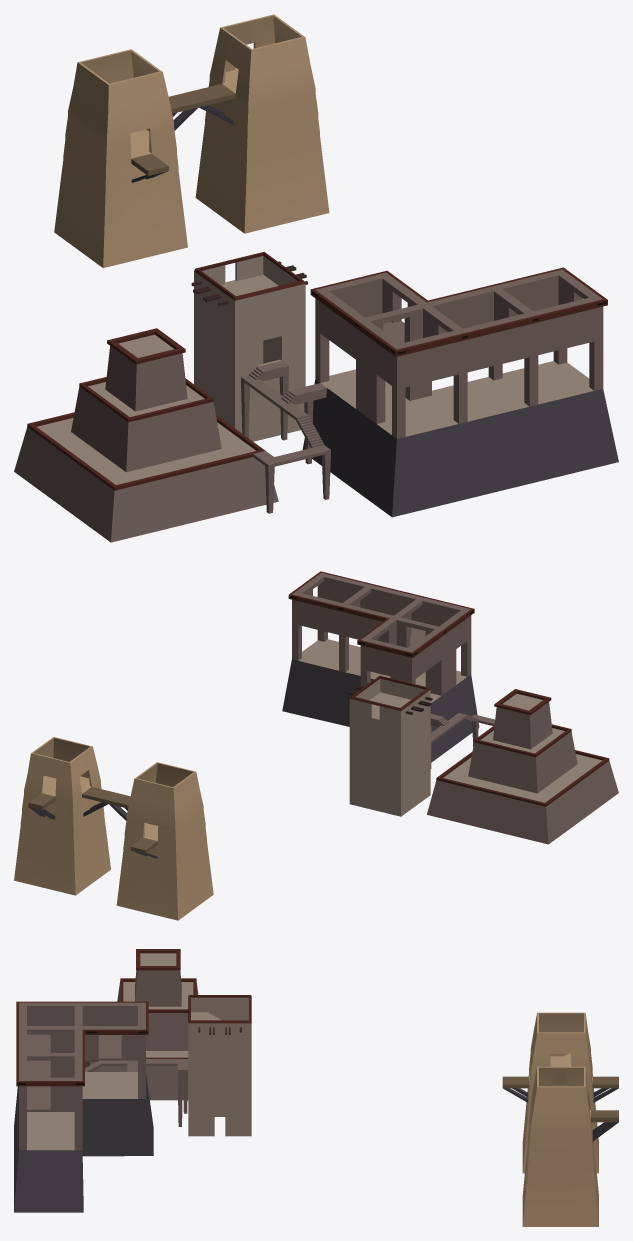
File: level_buildings.fbx
3 views of the same model, one above another, from view 1: azimuth 30°, elevation 25°; view 2: azimuth 150°, elevation 25°; view 3: azimuth 270°, elevation 25° (orthographic). The views are drawn at different scales.
Parts seen in each view (by area): view 1: L_building, bridge_towers, pyramid, tower, platform; view 2: bridge_towers, L_building, pyramid, tower, platform; view 3: L_building, bridge_towers, tower, pyramid, platform.
Boxes of the visible parts, x1,y1,x2,y2 form: L_building: (302,267,618,517); bridge_towers: (54,14,329,267); pyramid: (14,328,278,542); tower: (191,252,307,441); platform: (241,361,330,513); bridge_towers: (14,737,213,920); L_building: (282,571,479,762); pyramid: (427,689,618,844); tower: (348,675,432,816); platform: (430,713,494,768); L_building: (14,1001,153,1212); bridge_towers: (502,1012,618,1226); tower: (188,995,251,1136); pyramid: (85,949,198,1100); platform: (85,1059,188,1126).
Size of the model in its own units: 8512 by 2800 by 11448.
1 material, 1 textured.
